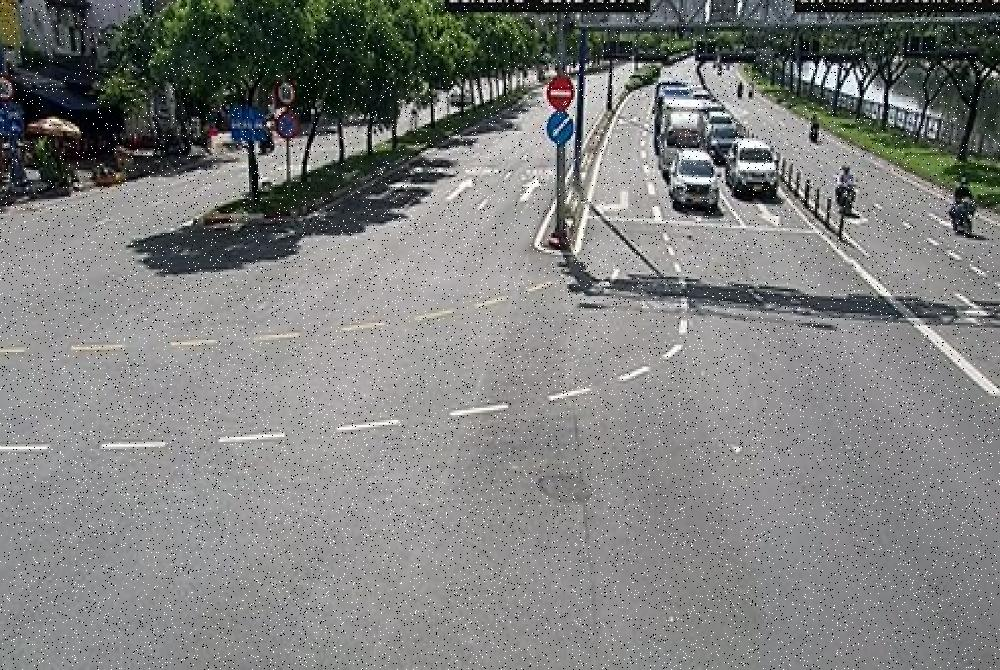car: (718, 139, 783, 225), (665, 149, 721, 245), (692, 122, 746, 168)
truck: (655, 92, 710, 152)
